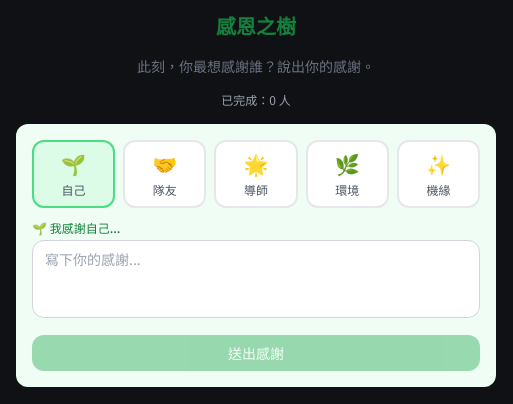
Test: GratitudeTree › 5 字以上啟用提交按鈕
Type "謝謝你一直支持我" into the text box with test id "gtr-message-input".
click(256, 279); type("謝謝你一直支持我")  # box [32,240,480,318]
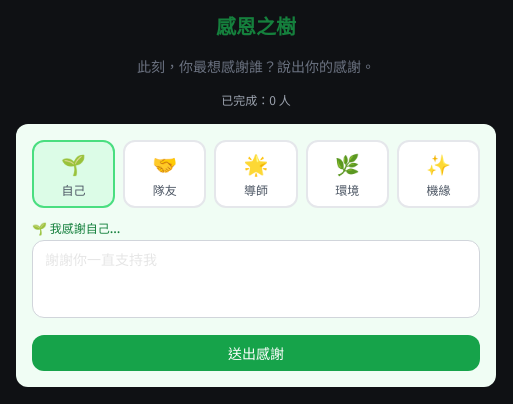
Expected: the button with test id "gtr-submit-btn" is enabled, [32,335,480,371]
